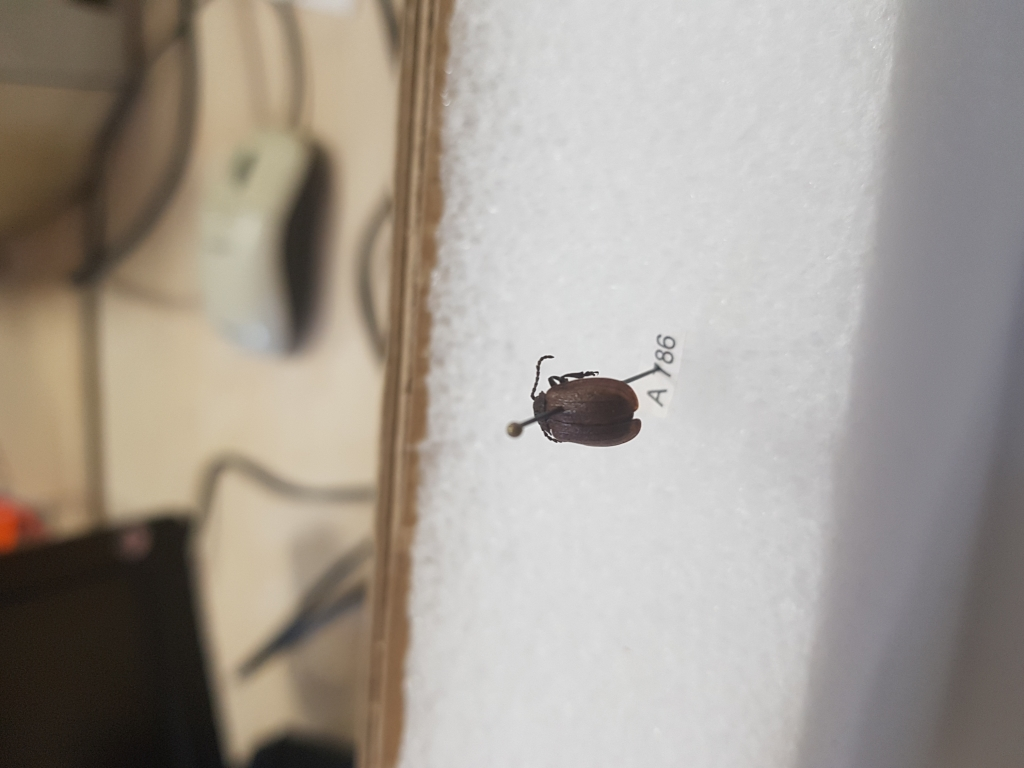Galeruca_tanaceti: (530, 352, 644, 447)
